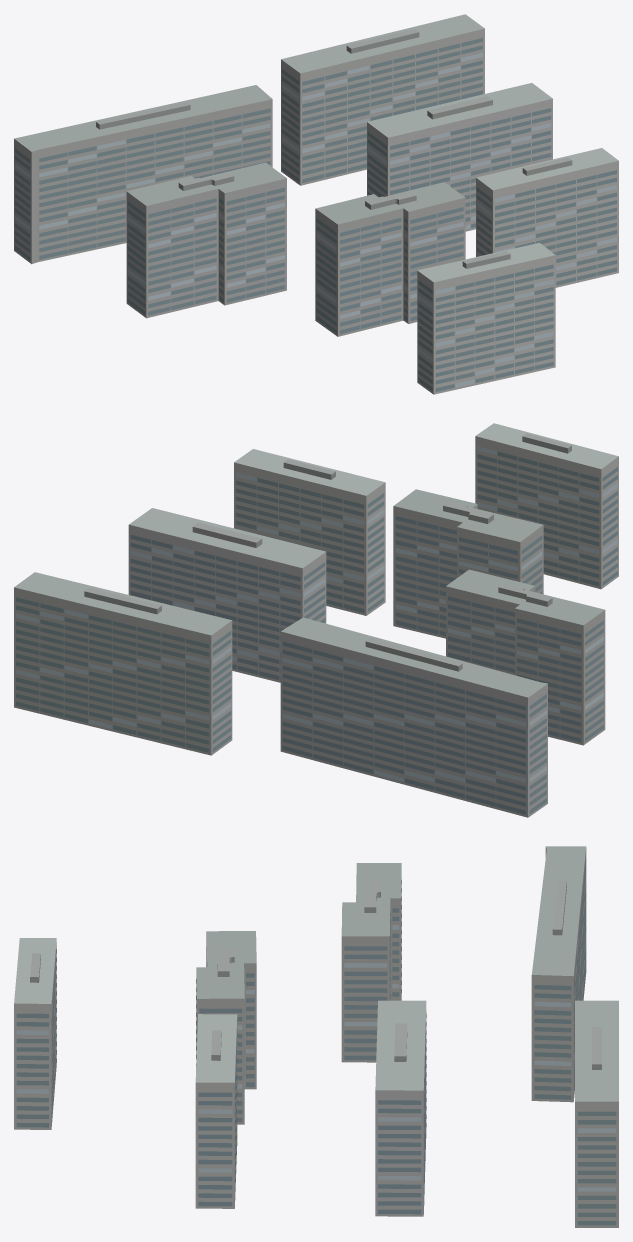
The model's file is apt-a13407204.glb.
The picture shows the model from 3 angles, top to bottom: view 1: azimuth 30°, elevation 25°; view 2: azimuth 150°, elevation 25°; view 3: azimuth 270°, elevation 25°; orthographic projection. The views are drawn at different scales.
Parts seen in each view (by area): view 1: apt-a13407204; view 2: apt-a13407204; view 3: apt-a13407204.
Part boxes in pixels (<box>): apt-a13407204: <box>14,14,618,394</box>; apt-a13407204: <box>14,423,618,817</box>; apt-a13407204: <box>14,846,618,1227</box>.
Bounding box in the file's own units: 199 × 47.81 × 199.
